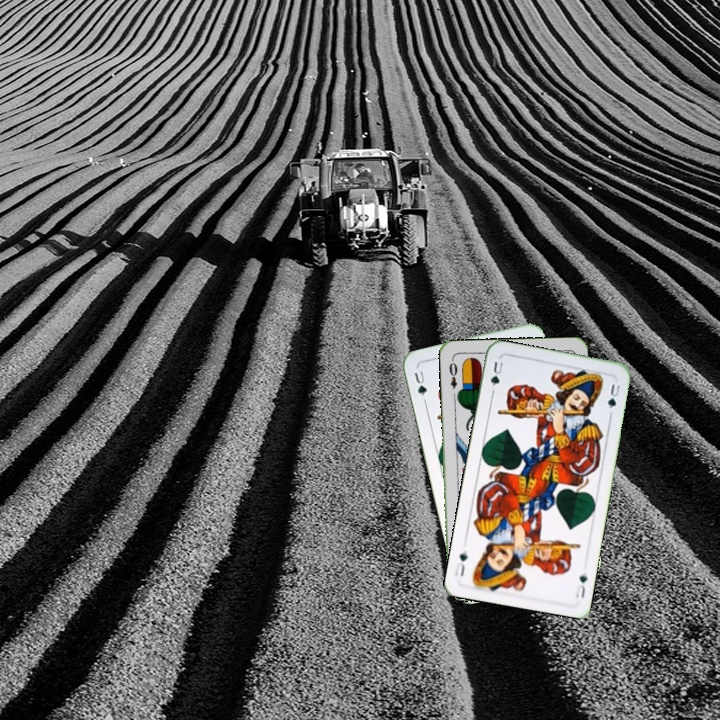EO: (445, 358, 460, 391)
GU: (410, 366, 430, 405), (571, 568, 590, 600), (486, 358, 505, 389)
